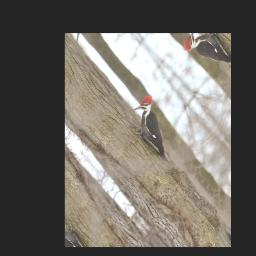Woodpecker: (123, 90, 189, 174)
